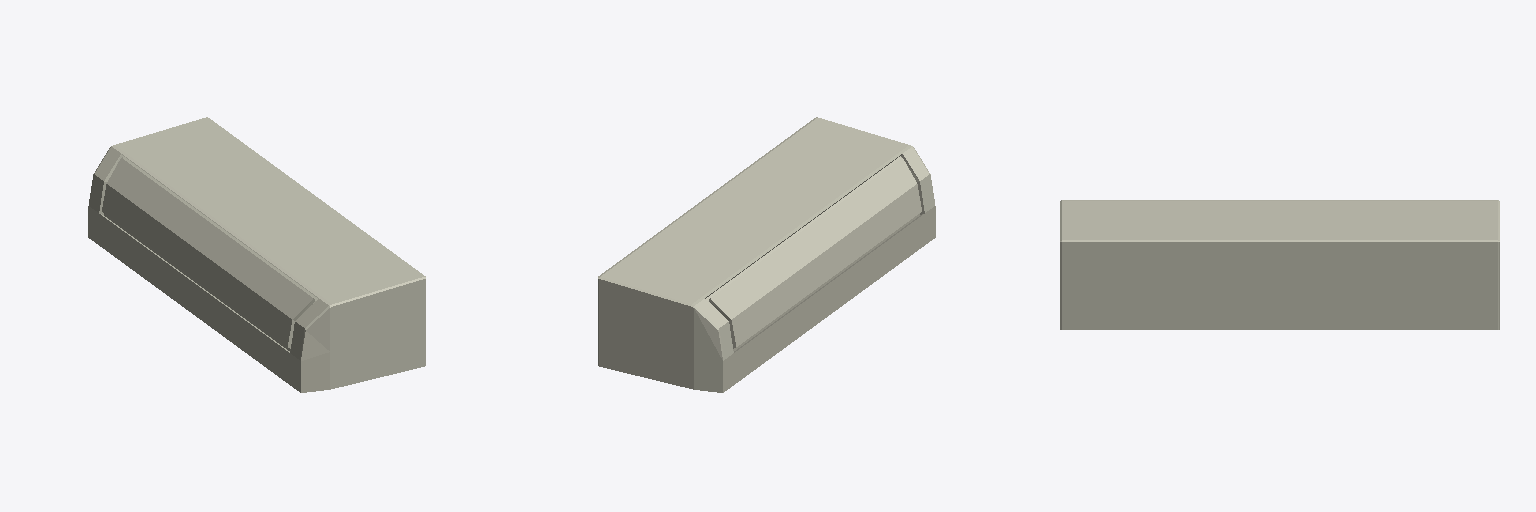
File: AirConditioner.obj
3 views of the same model, side by side, from view 1: azimuth 30°, elevation 25°; view 2: azimuth 150°, elevation 25°; view 3: azimuth 270°, elevation 25° (orthographic).
Visible parts, largest first — view 1: internal-unit_Cube.001; view 2: internal-unit_Cube.001; view 3: internal-unit_Cube.001.
Boxes of the visible parts, x1,y1,x2,y2 form: internal-unit_Cube.001: [88, 117, 425, 392]; internal-unit_Cube.001: [598, 117, 935, 392]; internal-unit_Cube.001: [1060, 200, 1499, 329].
Size of the model in its own units: 0.6705 by 0.4651 by 2.08.